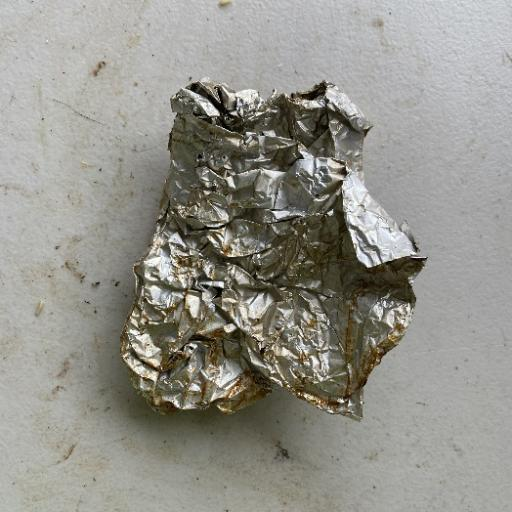Metal: (118, 75, 427, 421)
